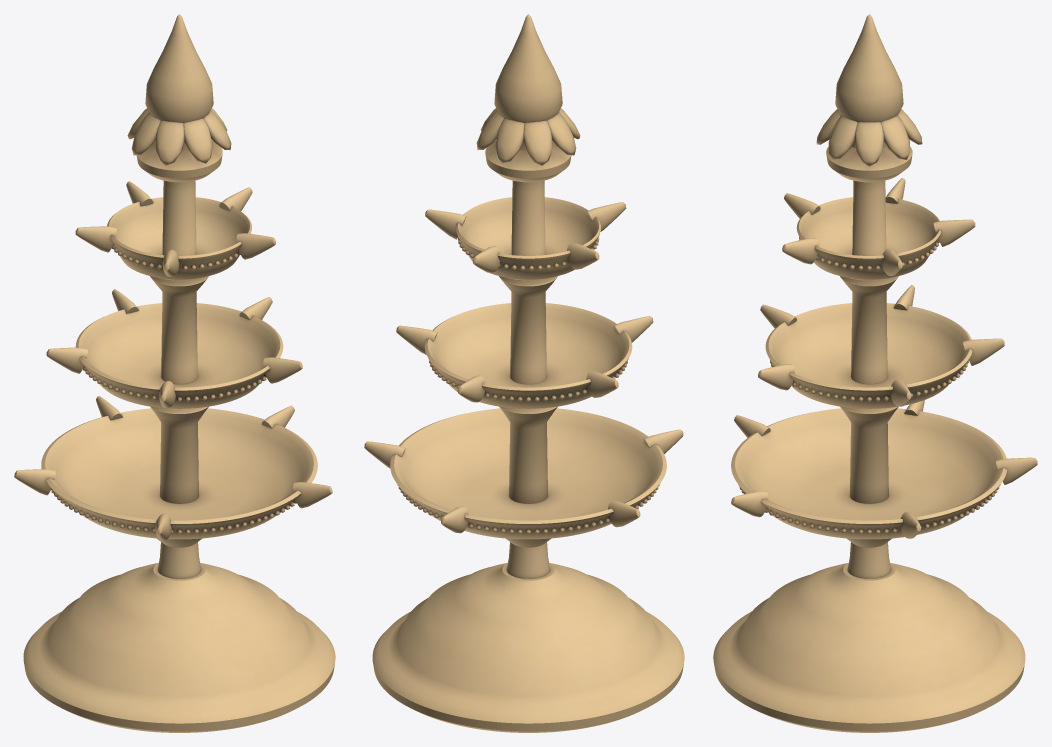
Rendered from lamp.glb.
3 views of the same model, side by side, from view 1: azimuth 30°, elevation 25°; view 2: azimuth 150°, elevation 25°; view 3: azimuth 270°, elevation 25° (orthographic).
Visible parts, largest first — view 1: lamp_base, lamp_tier1, lamp_tier2, lamp_stem, lamp_crown, lamp_tier3; view 2: lamp_base, lamp_tier1, lamp_tier2, lamp_stem, lamp_crown, lamp_tier3; view 3: lamp_base, lamp_tier1, lamp_tier2, lamp_stem, lamp_crown, lamp_tier3.
Part boxes in pixels (bbox=[...]): lamp_base: bbox=[23, 563, 335, 732]; lamp_tier1: bbox=[14, 396, 332, 540]; lamp_tier2: bbox=[46, 289, 302, 408]; lamp_stem: bbox=[150, 180, 208, 578]; lamp_crown: bbox=[127, 14, 231, 182]; lamp_tier3: bbox=[75, 181, 275, 280]; lamp_base: bbox=[372, 563, 684, 732]; lamp_tier1: bbox=[364, 408, 683, 539]; lamp_tier2: bbox=[396, 303, 653, 408]; lamp_stem: bbox=[499, 180, 557, 578]; lamp_crown: bbox=[476, 14, 580, 182]; lamp_tier3: bbox=[425, 197, 626, 280]; lamp_base: bbox=[713, 563, 1025, 732]; lamp_tier1: bbox=[731, 400, 1037, 539]; lamp_tier2: bbox=[758, 285, 1004, 408]; lamp_stem: bbox=[840, 180, 898, 578]; lamp_crown: bbox=[816, 14, 922, 182]; lamp_tier3: bbox=[782, 178, 975, 280].
Size of the model in its own units: 0.4885 by 1.11 by 0.4945.
1 material, 1 textured.
